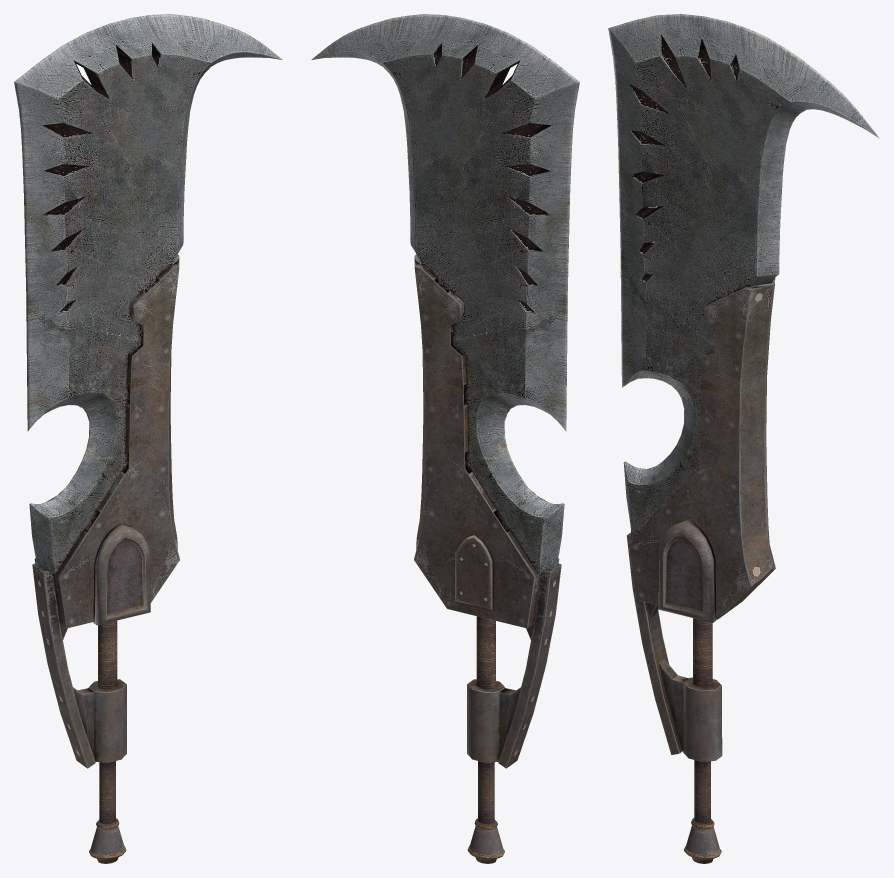
The model's file is bs_two002.obj.
3 renders of one model, left to right at view 1: azimuth 30°, elevation 25°; view 2: azimuth 150°, elevation 25°; view 3: azimuth 330°, elevation 25°, orthographic.
Visible parts, largest first — view 1: bs_two002_002_LOD_1, bs_two002_000_LOD_1, bs_two002_001_LOD_1; view 2: bs_two002_002_LOD_1, bs_two002_000_LOD_1, bs_two002_001_LOD_1; view 3: bs_two002_002_LOD_1, bs_two002_000_LOD_1, bs_two002_001_LOD_1.
Part boxes in pixels (x1,y1,x2,y2): bs_two002_002_LOD_1: (14, 14, 282, 573); bs_two002_000_LOD_1: (32, 254, 179, 863); bs_two002_001_LOD_1: (88, 679, 126, 855); bs_two002_002_LOD_1: (311, 14, 579, 573); bs_two002_000_LOD_1: (414, 254, 561, 863); bs_two002_001_LOD_1: (467, 679, 505, 855); bs_two002_002_LOD_1: (608, 14, 879, 540); bs_two002_000_LOD_1: (626, 277, 775, 863); bs_two002_001_LOD_1: (683, 677, 722, 855).
Bounding box in the file's own units: 87.26 × 259 × 18.36.
